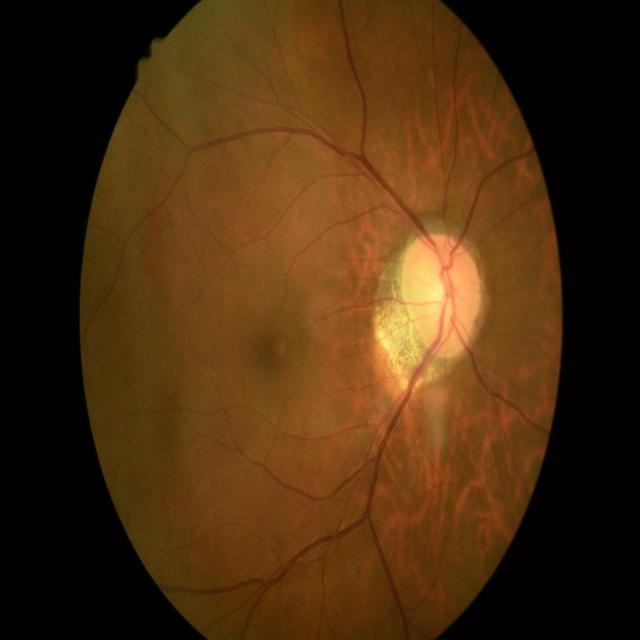cup: (414, 245, 454, 338)
disk: (401, 234, 481, 358)
